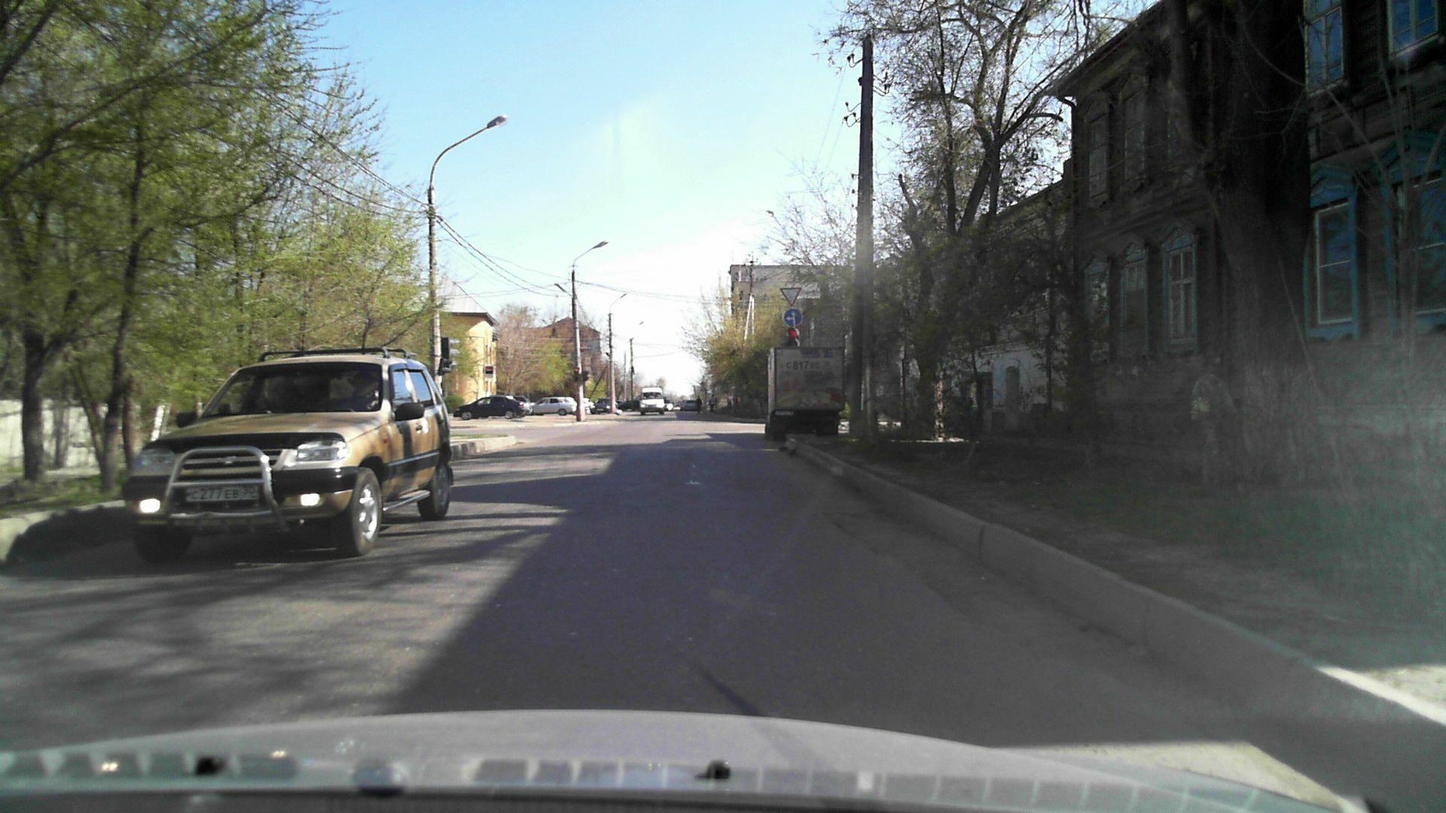off traffic light: (442, 336, 461, 371), (439, 358, 454, 376)
road_sign: (779, 287, 802, 307), (784, 308, 802, 327)
traffic light: (787, 327, 800, 347)
